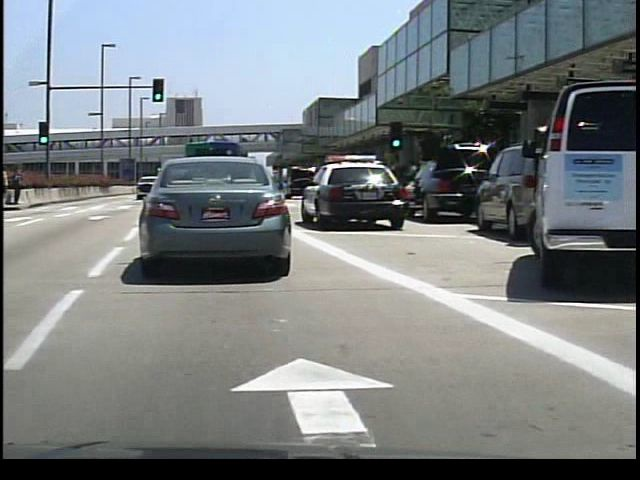person: (9, 165, 24, 208)
